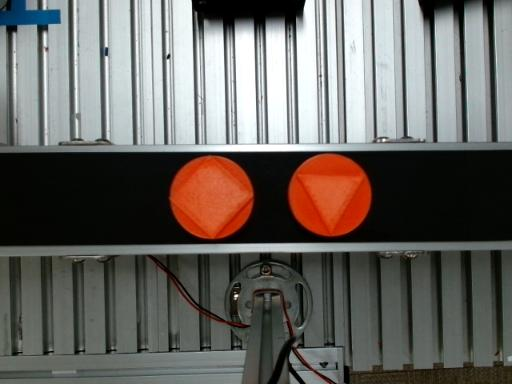Not_Square: (296, 175, 366, 236)
Orange_Waper: (169, 156, 254, 239), (288, 154, 371, 236)
Square: (169, 154, 254, 240)
